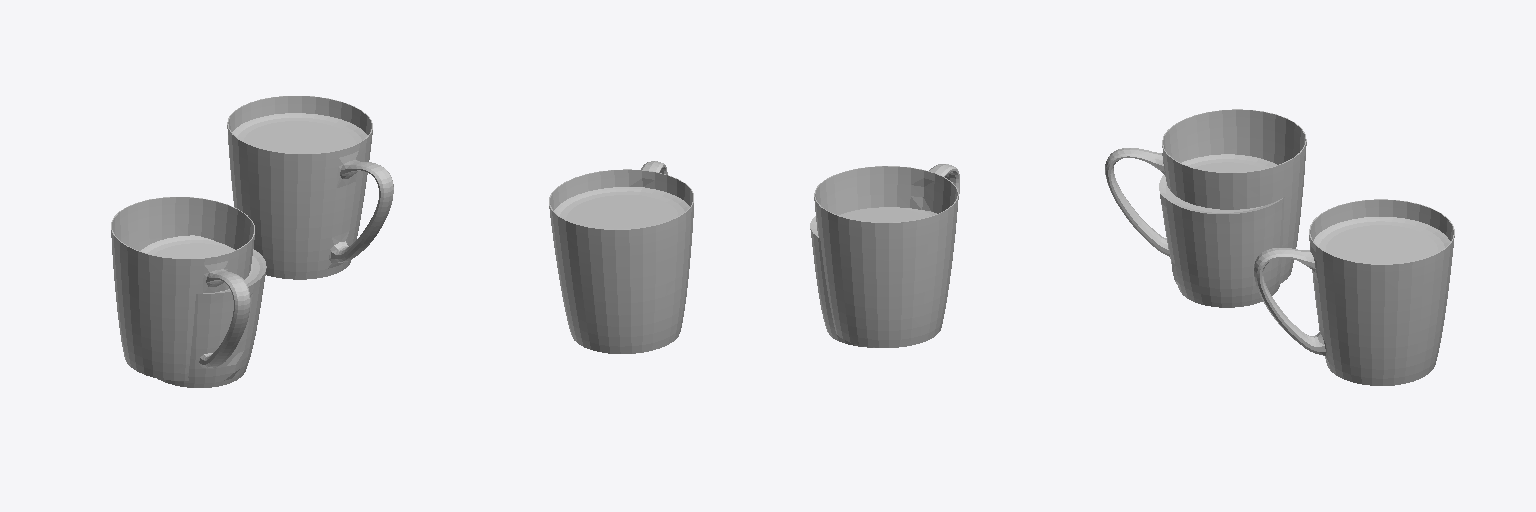
File: glass_empty_filled.obj
The picture shows the model from 3 angles: view 1: azimuth 30°, elevation 25°; view 2: azimuth 150°, elevation 25°; view 3: azimuth 270°, elevation 25°; orthographic projection.
Parts seen in each view (by area): view 1: Cup_low_CUBezierCurve.004, Cup_low.001_CUBezierCurve.005, water_low_CUBezierCurve.001, water_low_CUBezierCurve.005; view 2: Cup_low.001_CUBezierCurve.005, Cup_low_CUBezierCurve.004, water_low_CUBezierCurve.005, water_low_CUBezierCurve.001; view 3: Cup_low_CUBezierCurve.004, Cup_low.001_CUBezierCurve.005, water_low_CUBezierCurve.001, water_low_CUBezierCurve.005.
Boxes of the visible parts, x1=… form: Cup_low_CUBezierCurve.004: x1=227, y1=96, x2=393, y2=279; Cup_low.001_CUBezierCurve.005: x1=111, y1=197, x2=254, y2=380; water_low_CUBezierCurve.001: x1=141, y1=235, x2=266, y2=387; water_low_CUBezierCurve.005: x1=232, y1=113, x2=367, y2=153; Cup_low.001_CUBezierCurve.005: x1=814, y1=164, x2=959, y2=347; Cup_low_CUBezierCurve.004: x1=549, y1=161, x2=693, y2=353; water_low_CUBezierCurve.005: x1=554, y1=187, x2=689, y2=229; water_low_CUBezierCurve.001: x1=810, y1=207, x2=936, y2=347; Cup_low_CUBezierCurve.004: x1=1254, y1=199, x2=1454, y2=385; Cup_low.001_CUBezierCurve.005: x1=1105, y1=109, x2=1306, y2=284; water_low_CUBezierCurve.001: x1=1159, y1=154, x2=1284, y2=307; water_low_CUBezierCurve.005: x1=1314, y1=217, x2=1450, y2=263.
Size of the model in its own units: 0.0989 by 0.0432 by 0.0946.